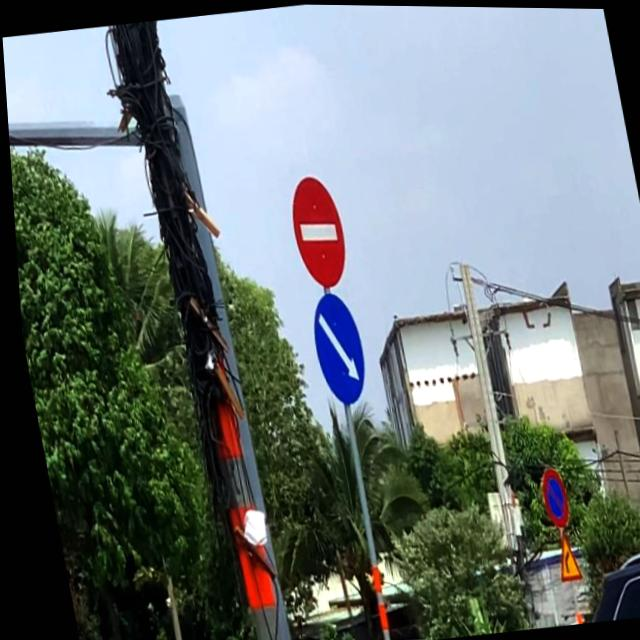Cam di nguoc chieu: (281, 171, 350, 291)
Cam do xe: (532, 466, 564, 526)
Vong chuong ngai vat sang phai: (301, 288, 368, 406)
cho ngoat nguy hiem vong ben phai: (545, 528, 575, 581)
